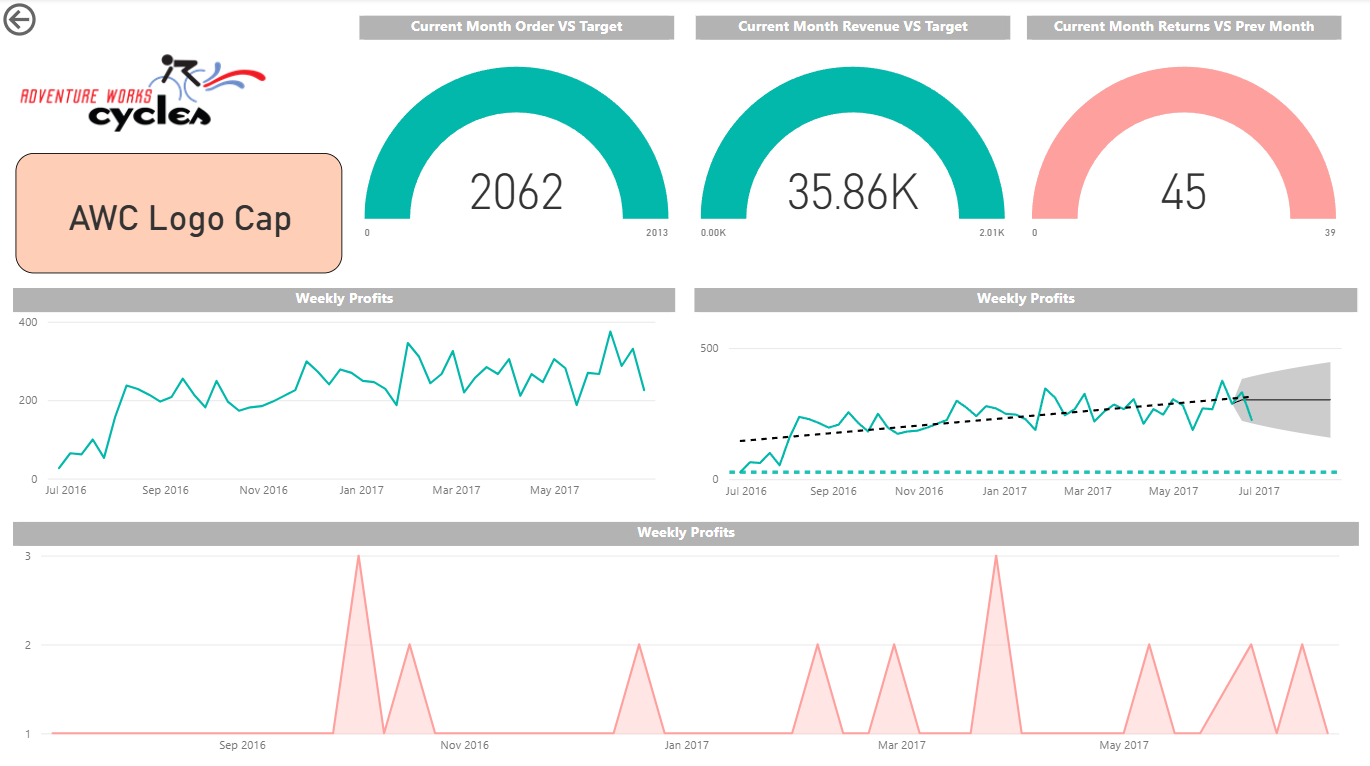

What the dashboard file says about the page in this screenshot:
{"tool":"powerbi","page":{"name":"Product","canvas":[1280,720],"ordinal":1},"visuals":[{"type":"image","box":[16,16,240,144],"z":0},{"type":"card","fields":{"Values":["Min(AW_Product_Lookup.ProductName)"]},"box":[16,144,304,112],"z":1000},{"type":"actionButton","box":[0,0,100,40],"z":2000},{"type":"lineChart","title":"Weekly Profits","fields":{"Y":["Sales.Total Profit"],"Category":["AW_Calendar_Lookup.Start of Week"]},"box":[13.5,270.2,616.3,205.4],"z":3000},{"type":"lineChart","title":"Weekly Profits","fields":{"Category":["AW_Calendar_Lookup.Start of Week"],"Y":["Sales.Total Returns"]},"box":[13.5,486.7,1252.2,225],"z":4000},{"type":"lineChart","title":"Weekly Profits","fields":{"Y":["Sales.Total Profit"],"Category":["AW_Calendar_Lookup.Start of Week"]},"box":[648,270,617,206],"z":5000},{"type":"gauge","title":"Current Month Order VS Target","fields":{"Y":["Sales.Total Order"],"MaxValue":["Sales.Order Target"]},"box":[335.7,15.7,292.9,240],"z":6000},{"type":"gauge","title":"Current Month Revenue VS Target","fields":{"MaxValue":["Sales.Order Target"],"Y":["Sales.Total Revenue Measure"]},"box":[648.6,15.7,292.9,240],"z":7000},{"type":"gauge","title":"Current Month Returns VS Prev Month","fields":{"Y":["Sales.Total Returns"],"MaxValue":["Returns.Prev Month Returns"]},"box":[957.1,15.7,292.9,240],"z":8000}]}

Visuals, with their boxes in screenshot pixels (x1, y1, x2, y2), scaled from the page's 1280x720 canvas onto the 1370x766 screenshot:
image: {"left": 17, "top": 17, "right": 274, "bottom": 170}
card - Min(AW_Product_Lookup.ProductName): {"left": 17, "top": 153, "right": 342, "bottom": 272}
actionButton: {"left": 0, "top": 0, "right": 107, "bottom": 43}
"Weekly Profits" lineChart: {"left": 14, "top": 287, "right": 674, "bottom": 506}
"Weekly Profits" lineChart: {"left": 14, "top": 518, "right": 1355, "bottom": 757}
"Weekly Profits" lineChart: {"left": 694, "top": 287, "right": 1354, "bottom": 506}
"Current Month Order VS Target" gauge: {"left": 359, "top": 17, "right": 673, "bottom": 272}
"Current Month Revenue VS Target" gauge: {"left": 694, "top": 17, "right": 1008, "bottom": 272}
"Current Month Returns VS Prev Month" gauge: {"left": 1024, "top": 17, "right": 1338, "bottom": 272}
